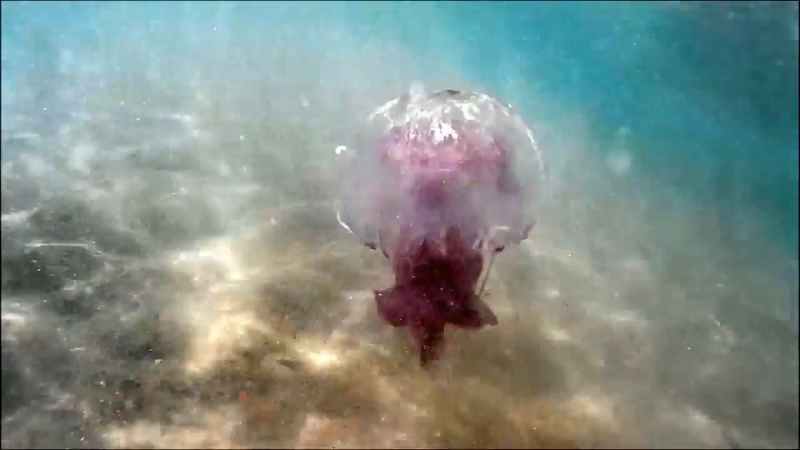red jellyfish: (326, 82, 550, 362)
